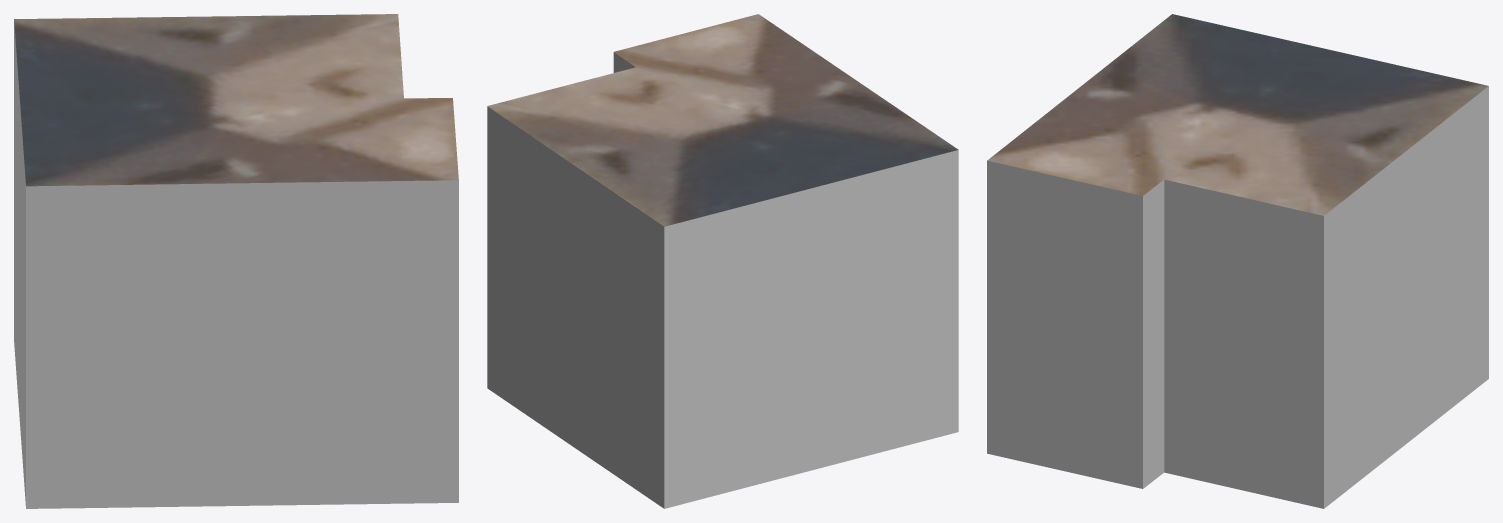
The model's file is DEBW_0010007TxcD.gltf.
The picture shows the model from 3 angles, left to right: view 1: azimuth 30°, elevation 25°; view 2: azimuth 150°, elevation 25°; view 3: azimuth 270°, elevation 25°; orthographic projection. The views are drawn at different scales.
Visible parts, largest first — view 1: Z_UP; view 2: Z_UP; view 3: Z_UP.
Boxes of the visible parts, box(x1,y1,x2,y2) form: Z_UP: box(14, 14, 458, 508); Z_UP: box(487, 14, 958, 508); Z_UP: box(987, 14, 1488, 508).
Bounding box in the file's own units: 16.03 × 10.85 × 16.83.
Materials: 2 (1 with a texture image).
